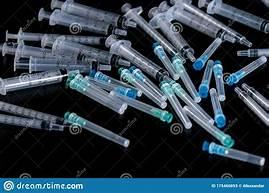Syringe: (0, 40, 115, 74), (35, 4, 130, 40), (59, 110, 134, 147), (196, 1, 269, 34), (156, 80, 196, 130), (200, 139, 266, 167), (225, 54, 269, 87)
